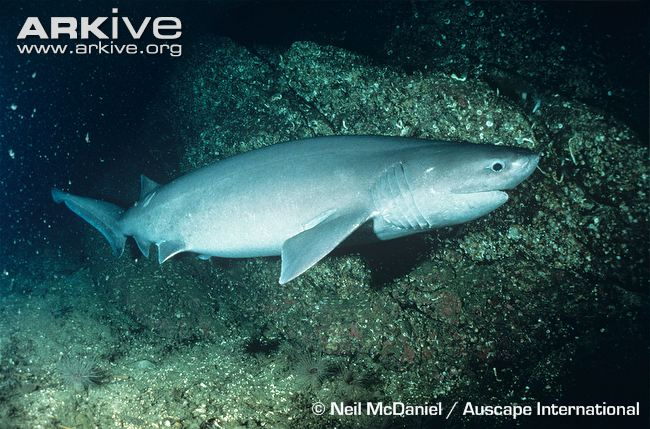shark: (29, 101, 562, 295)
